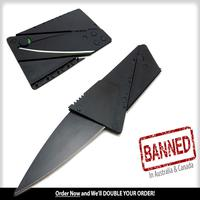knife: (12, 54, 143, 198)
